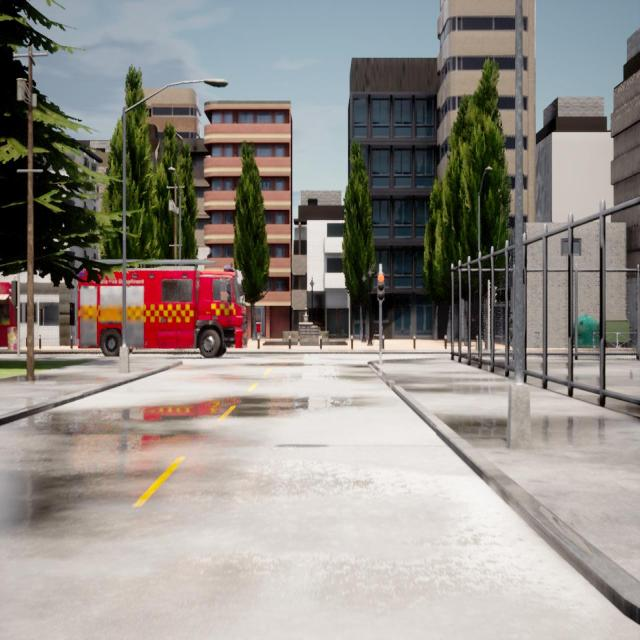Vehicle: (77, 266, 246, 357)
traffic_light: (376, 272, 386, 302), (9, 281, 17, 304), (494, 286, 498, 308)
